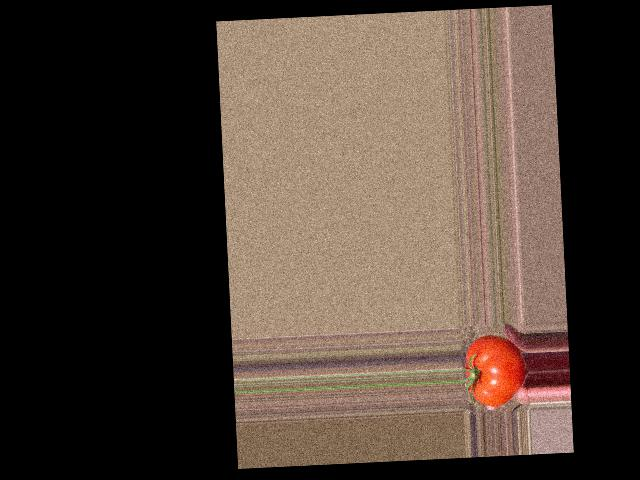tomato: (464, 335, 527, 407)
